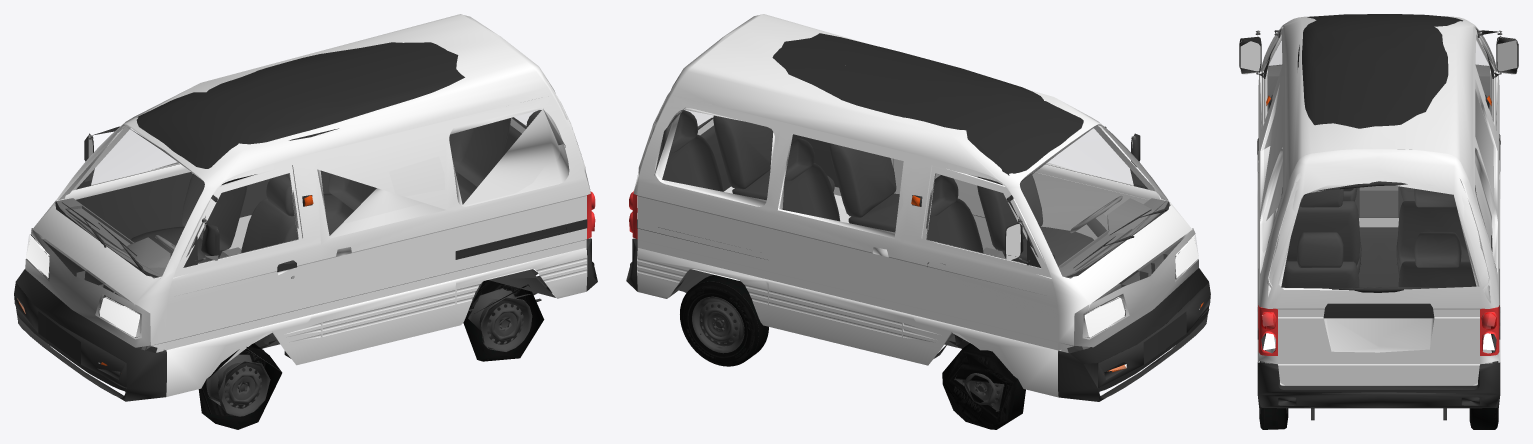
Rendered from damas.ai.glb.
3 renders of one model, left to right at view 1: azimuth 30°, elevation 25°; view 2: azimuth 150°, elevation 25°; view 3: azimuth 270°, elevation 25°, orthographic. The views are drawn at different scales.
Visible parts, largest first — view 1: Object_12, Object_14, Object_17, Object_19, Object_25, Object_11, Object_21, Object_18, Object_23, Object_24, Object_22; view 2: Object_12, Object_14, Object_17, Object_19, Object_11, Object_18, Object_21, Object_25, Object_23, Object_22, Object_24; view 3: Object_12, Object_14, Object_17, Object_19, Object_18, Object_11, Object_2, Object_3, Object_23, Object_10, Object_22.
Boxes of the visible parts, bbox=[...] form: Object_12: bbox=[32, 14, 590, 396]; Object_14: bbox=[76, 42, 541, 352]; Object_17: bbox=[26, 109, 559, 336]; Object_19: bbox=[14, 117, 597, 401]; Object_25: bbox=[93, 126, 532, 416]; Object_11: bbox=[198, 280, 544, 429]; Object_21: bbox=[25, 228, 294, 347]; Object_18: bbox=[42, 198, 241, 350]; Object_23: bbox=[19, 235, 139, 363]; Object_24: bbox=[217, 269, 555, 405]; Object_22: bbox=[30, 109, 565, 337]; Object_12: bbox=[633, 14, 1192, 397]; Object_14: bbox=[662, 33, 1093, 353]; Object_17: bbox=[659, 109, 1198, 336]; Object_19: bbox=[626, 117, 1210, 401]; Object_11: bbox=[680, 275, 1025, 429]; Object_18: bbox=[983, 195, 1182, 371]; Object_21: bbox=[1074, 228, 1198, 347]; Object_25: bbox=[692, 126, 1106, 411]; Object_23: bbox=[637, 196, 1199, 370]; Object_22: bbox=[654, 107, 1195, 337]; Object_24: bbox=[669, 269, 1004, 392]; Object_12: bbox=[1257, 16, 1500, 385]; Object_14: bbox=[1265, 14, 1492, 352]; Object_17: bbox=[1262, 40, 1495, 288]; Object_19: bbox=[1239, 36, 1518, 408]; Object_18: bbox=[1267, 64, 1490, 217]; Object_11: bbox=[1259, 361, 1498, 429]; Object_2: bbox=[1240, 37, 1517, 74]; Object_3: bbox=[1258, 305, 1499, 355]; Object_23: bbox=[1262, 313, 1495, 350]; Object_10: bbox=[1261, 312, 1496, 329]; Object_22: bbox=[1255, 30, 1502, 270].
Size of what is drawn, in the model's own units: 8.64 by 4.74 by 4.02.
Materials: 15 (1 with a texture image).
